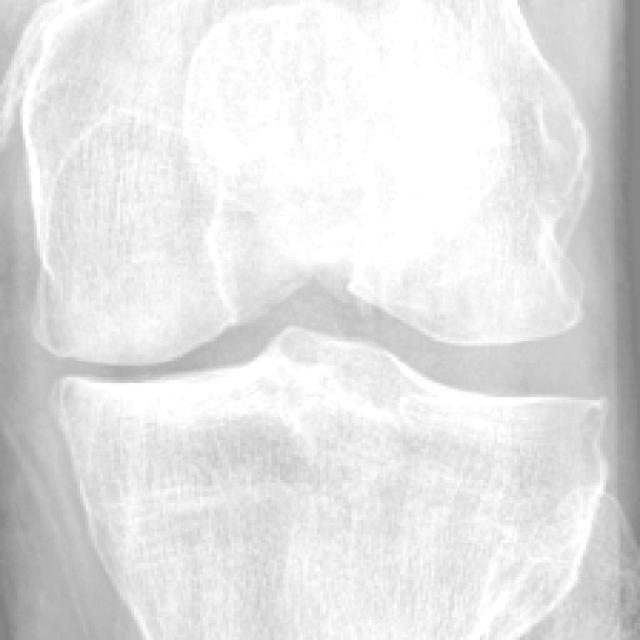femur: (20, 0, 596, 367)
tibia: (63, 329, 600, 637)
